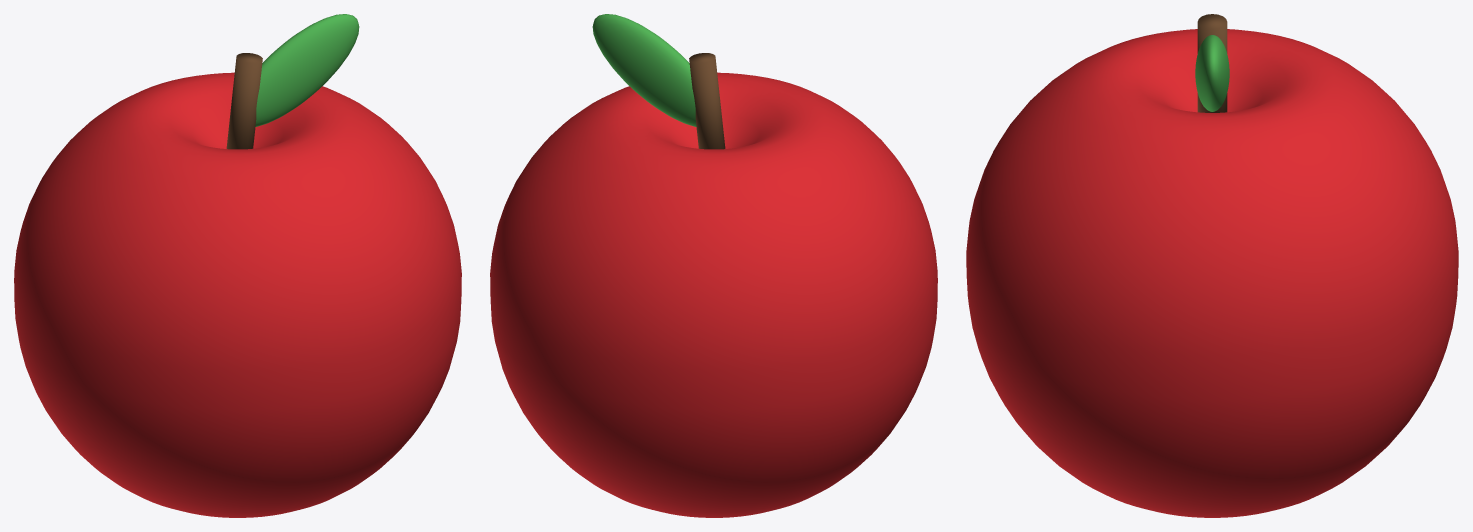
File: manzana.glb
The picture shows the model from 3 angles, left to right: view 1: azimuth 30°, elevation 25°; view 2: azimuth 150°, elevation 25°; view 3: azimuth 270°, elevation 25°; orthographic projection. The views are drawn at different scales.
Parts seen in each view (by area): view 1: Sphere, Sphere.001, Cylinder; view 2: Sphere, Sphere.001, Cylinder; view 3: Sphere, Sphere.001, Cylinder.
Boxes of the visible parts, box(x1,y1,x2,y2) form: Sphere: box(14, 72, 461, 517); Sphere.001: box(255, 14, 359, 126); Cylinder: box(226, 53, 262, 149); Sphere: box(490, 72, 937, 517); Sphere.001: box(592, 14, 696, 126); Cylinder: box(689, 53, 725, 149); Sphere: box(966, 29, 1458, 517); Sphere.001: box(1195, 35, 1229, 111); Cylinder: box(1197, 14, 1227, 112).
Bounding box in the file's own units: 1 × 1.08 × 1.
